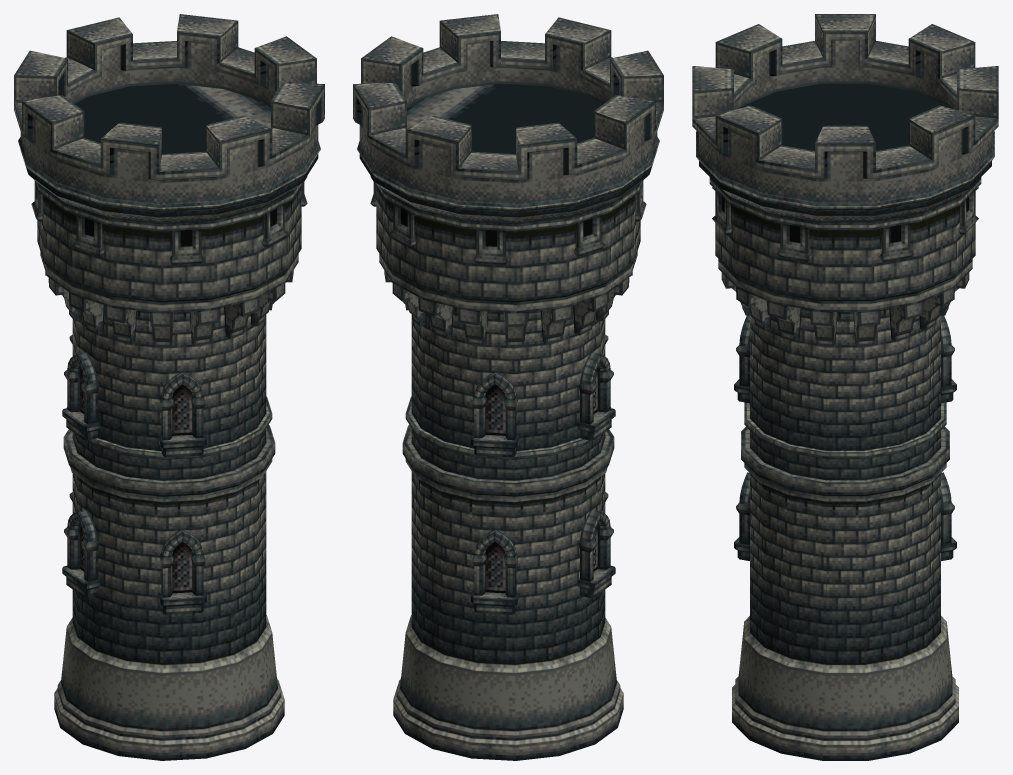
Rendered from EnvBdgMD_Castle_Rain_A_Tower_A.FBX.
3 views of the same model, side by side, from view 1: azimuth 30°, elevation 25°; view 2: azimuth 150°, elevation 25°; view 3: azimuth 270°, elevation 25° (orthographic).
Visible parts, largest first — view 1: EnvBdgMD_Castle_Rain_A_Tower_A; view 2: EnvBdgMD_Castle_Rain_A_Tower_A; view 3: EnvBdgMD_Castle_Rain_A_Tower_A.
Part boxes in pixels (box(x1,y1,x2,y2)): EnvBdgMD_Castle_Rain_A_Tower_A: box(14, 14, 324, 760); EnvBdgMD_Castle_Rain_A_Tower_A: box(353, 14, 663, 760); EnvBdgMD_Castle_Rain_A_Tower_A: box(692, 14, 998, 760).
Size of the model in its own units: 519 by 1185 by 519.
